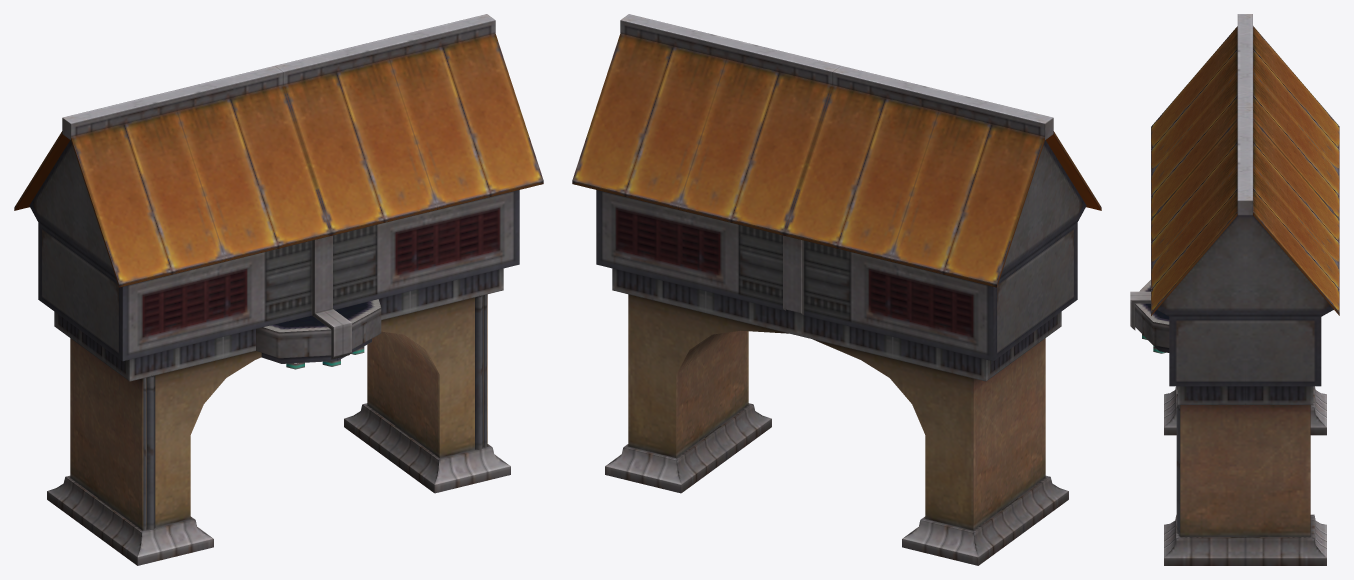
File: zc_lekesigang_zhujian04.FBX
3 views of the same model, side by side, from view 1: azimuth 30°, elevation 25°; view 2: azimuth 150°, elevation 25°; view 3: azimuth 270°, elevation 25° (orthographic). The views are drawn at different scales.
Visible parts, largest first — view 1: zc_lekesigang_zhujian04; view 2: zc_lekesigang_zhujian04; view 3: zc_lekesigang_zhujian04.
Boxes of the visible parts, left/top/right/bottom form: zc_lekesigang_zhujian04: left=14, top=14, right=543, bottom=565; zc_lekesigang_zhujian04: left=572, top=14, right=1101, bottom=565; zc_lekesigang_zhujian04: left=1130, top=14, right=1339, bottom=565.
Size of the model in its own units: 1421 by 1338 by 675.
1 material, 1 textured.
